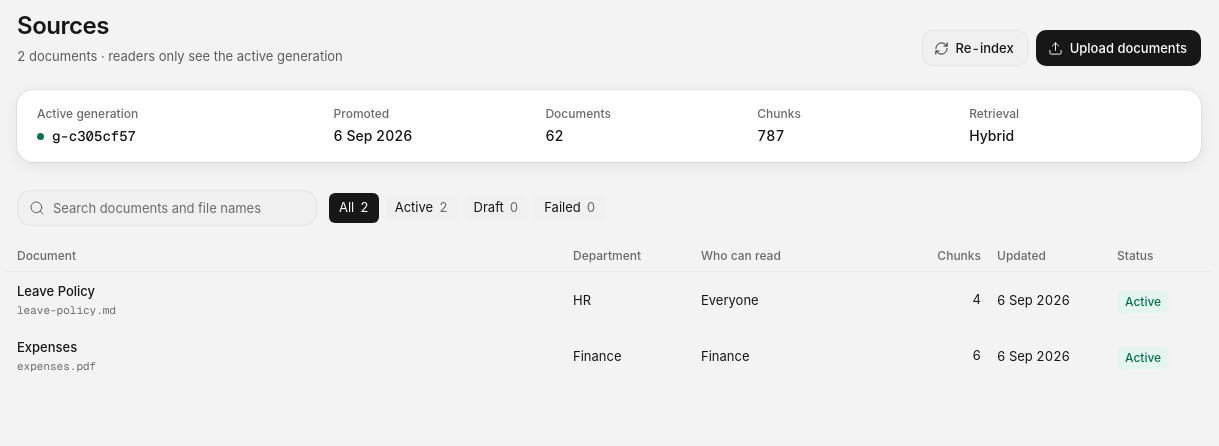
Test case: SourcesWorkspace rendering › refreshes the page data after a re-index starts
This screenshot has width=1219, height=446.
Click the button "Re-index". click: point(975, 48)
box: [922,30,1028,66]
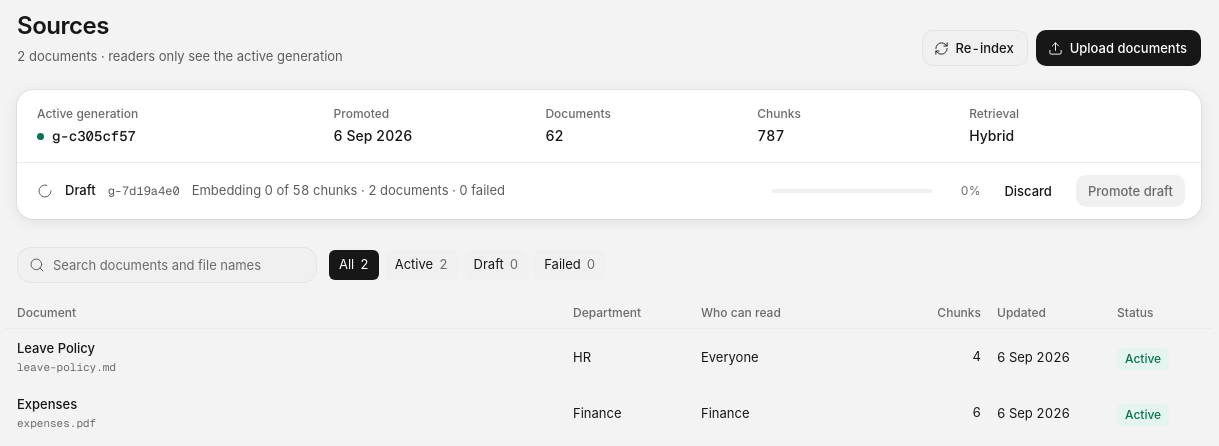
Result: the text "Embedding 0 of 58 chunks · 2 documents · 0 failed" is shown at [192,181,505,201]
